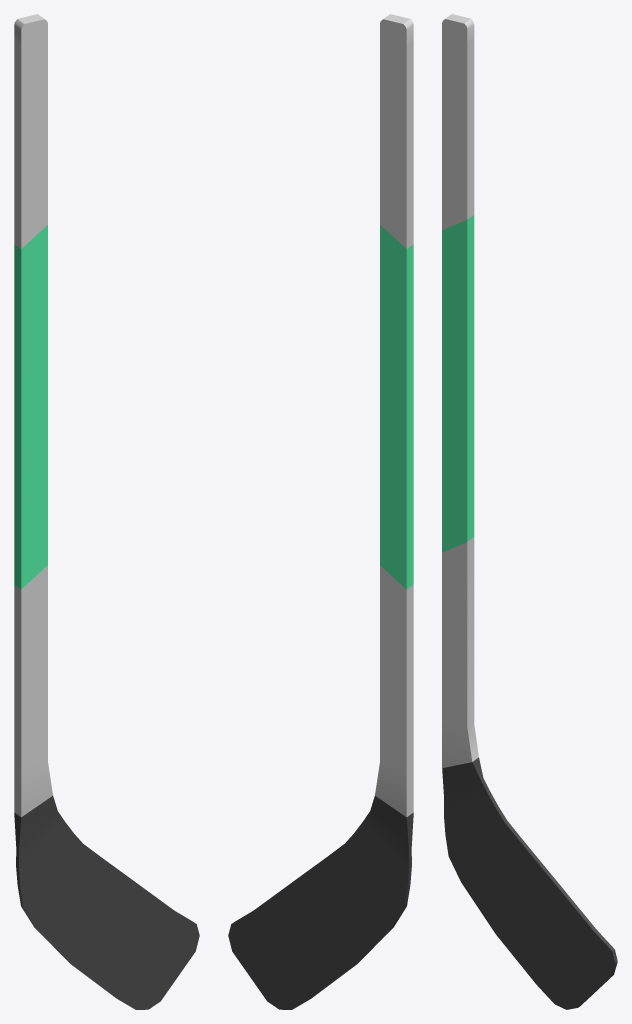
File: Hockey Stick Green.fbx
3 renders of one model, left to right at view 1: azimuth 30°, elevation 25°; view 2: azimuth 150°, elevation 25°; view 3: azimuth 330°, elevation 25°, orthographic. The views are drawn at different scales.
Parts seen in each view (by area): view 1: Hockey Stick Green; view 2: Hockey Stick Green; view 3: Hockey Stick Green.
Part boxes in pixels (<box>): Hockey Stick Green: <box>14,14,199,1009</box>; Hockey Stick Green: <box>228,14,413,1009</box>; Hockey Stick Green: <box>442,14,617,1009</box>.
Size of the model in its own units: 0.3741 by 2.01 by 0.0254.
